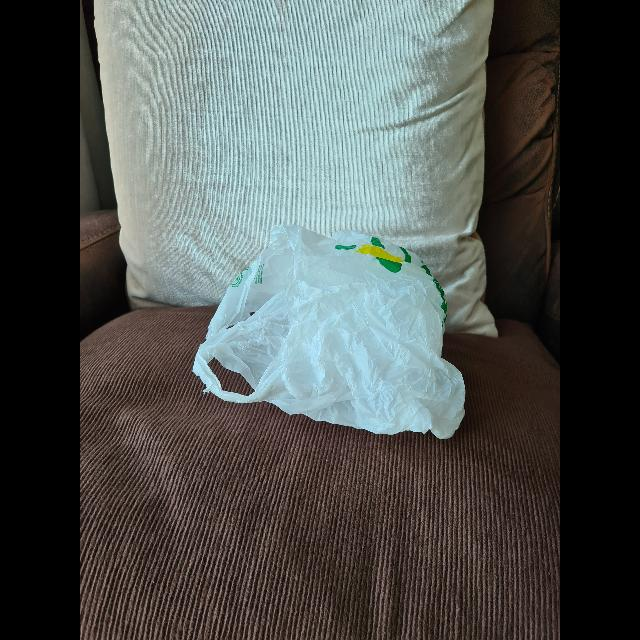plastic_bag: (193, 219, 472, 437)
